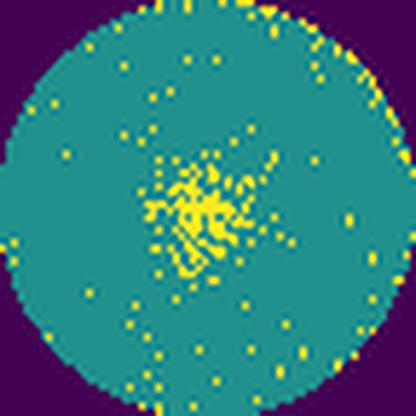Center: (140, 148, 283, 280)
